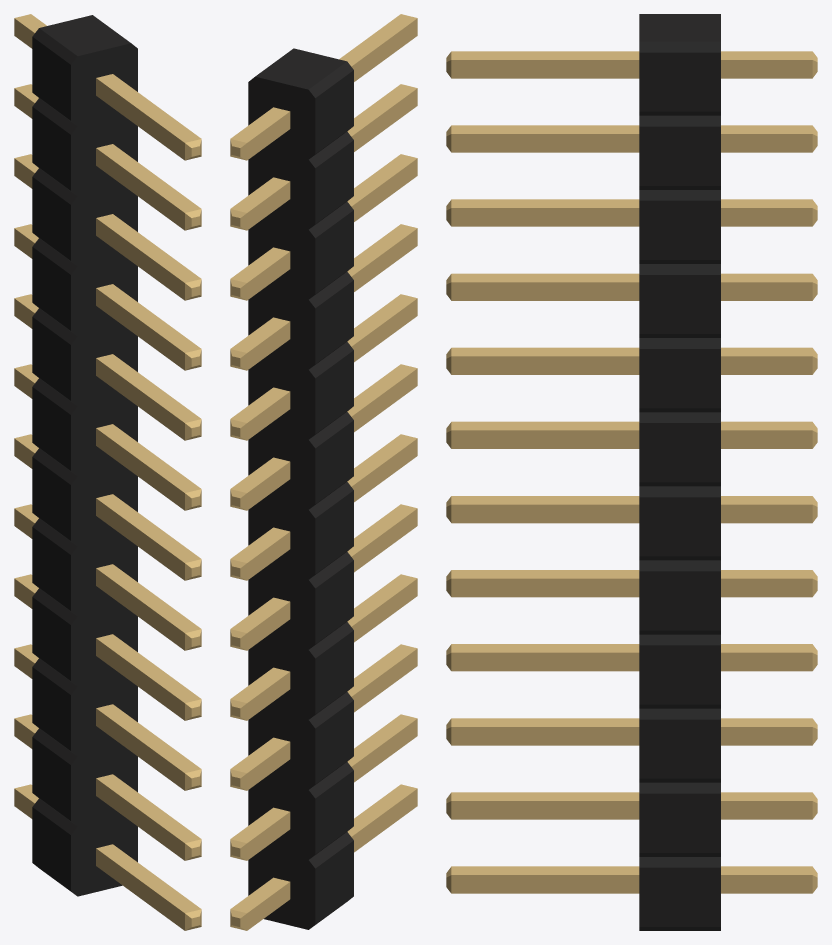
File: header-1x12.glb
The picture shows the model from 3 angles, left to right: view 1: azimuth 30°, elevation 25°; view 2: azimuth 150°, elevation 25°; view 3: azimuth 270°, elevation 25°; orthographic projection. The views are drawn at different scales.
Parts seen in each view (by area): view 1: IC-BODY-EPOXY-04, PIN-02; view 2: IC-BODY-EPOXY-04, PIN-02; view 3: PIN-02, IC-BODY-EPOXY-04.
Boxes of the visible parts, <box> form: IC-BODY-EPOXY-04: <box>32,15,137,896</box>; PIN-02: <box>14,14,201,930</box>; IC-BODY-EPOXY-04: <box>248,48,353,929</box>; PIN-02: <box>230,14,417,930</box>; PIN-02: <box>446,51,817,893</box>; IC-BODY-EPOXY-04: <box>639,14,720,930</box>.
Size of the model in its own units: 2.54 by 30.48 by 11.54.
